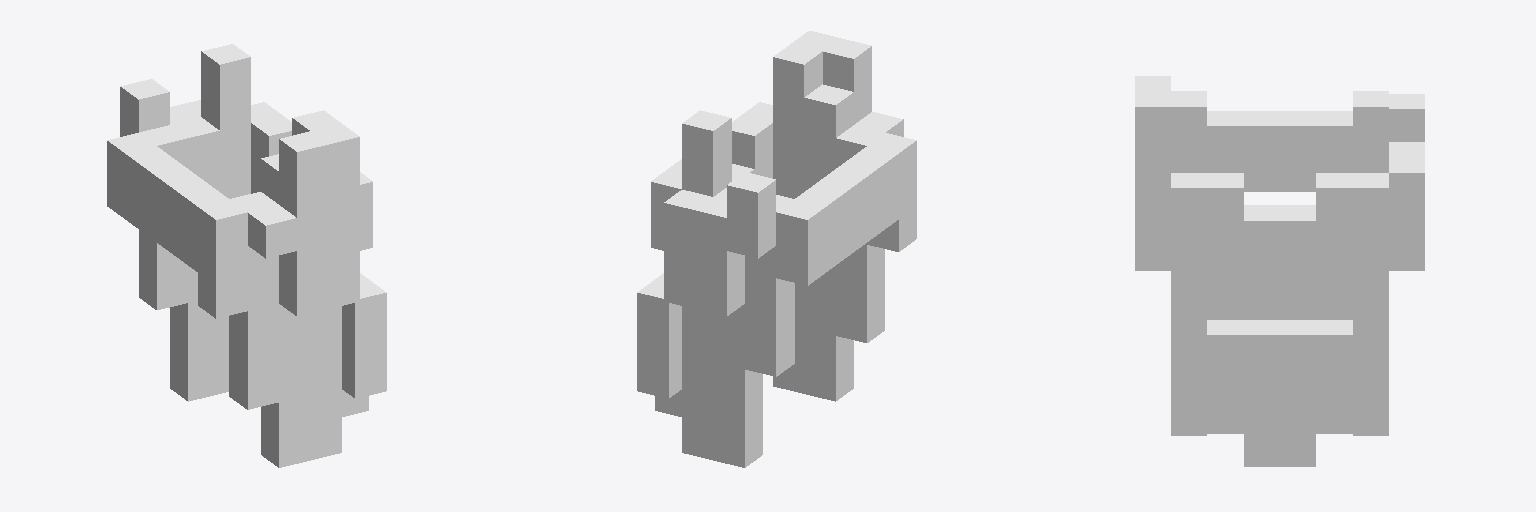
Rendered from DaedraArmorStanciRight.obj.
The picture shows the model from 3 angles: view 1: azimuth 30°, elevation 25°; view 2: azimuth 150°, elevation 25°; view 3: azimuth 270°, elevation 25°; orthographic projection.
Visible parts, largest first — view 1: object 1; view 2: object 1; view 3: object 1.
Boxes of the visible parts, <box> form: object 1: <box>107,44,386,467</box>; object 1: <box>637,31,916,467</box>; object 1: <box>1135,76,1424,466</box>.
Bounding box in the file's own units: 0.6 × 1 × 0.8.